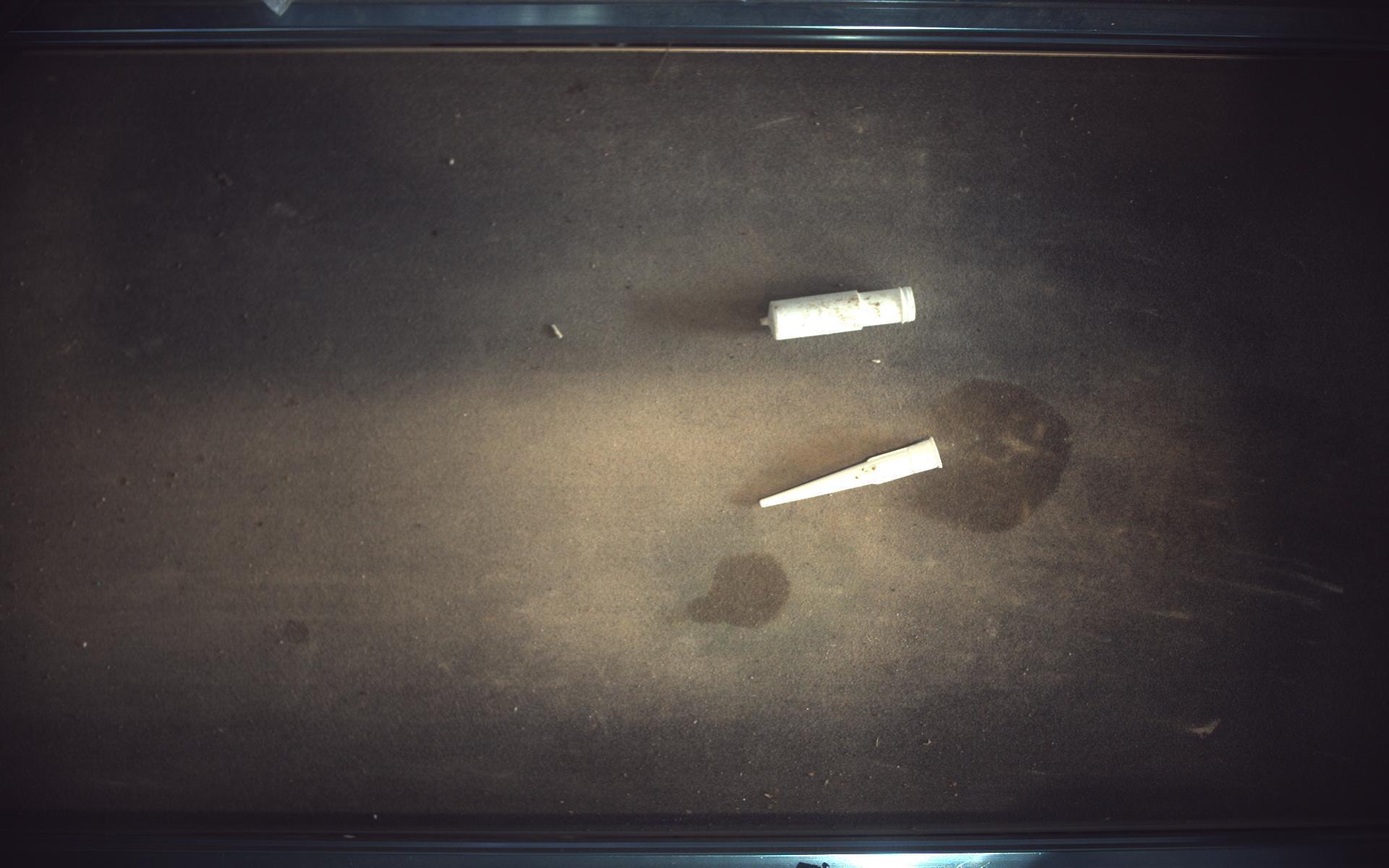plastic: (760, 437, 945, 508), (763, 286, 918, 340)
